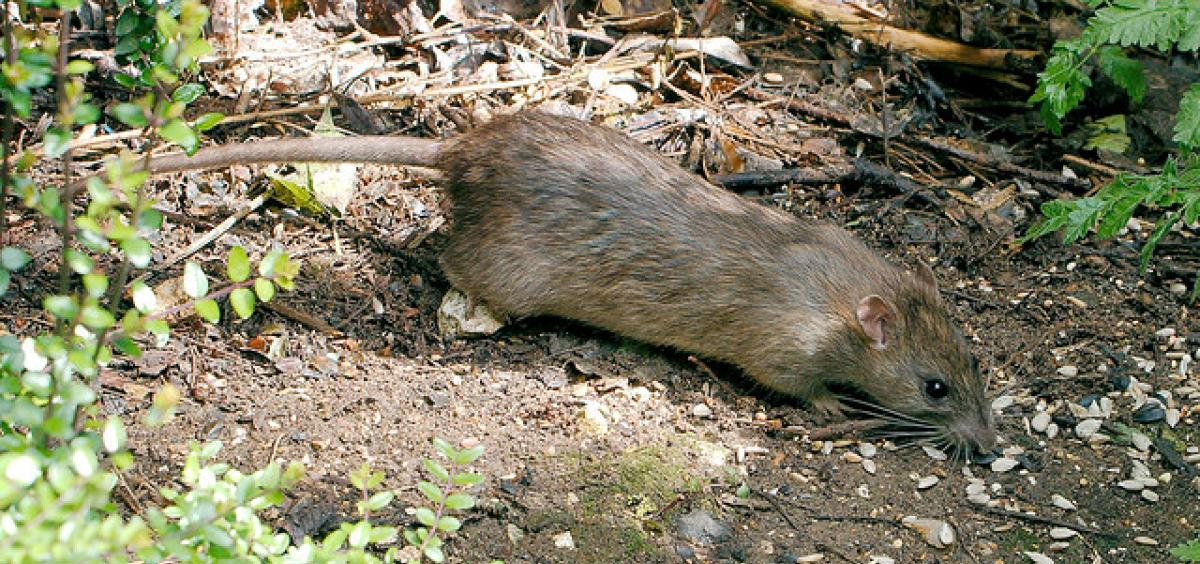Rat: (356, 81, 1033, 488)
